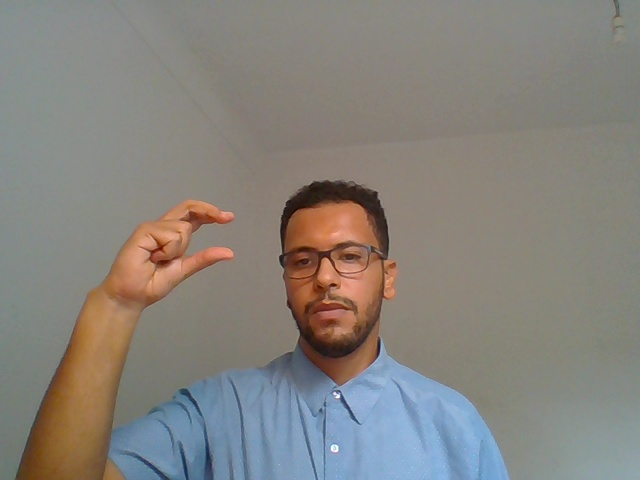no: (39, 152, 241, 432)
